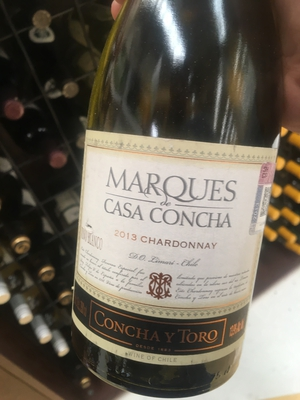marques de casa concha chardonnay: (61, 10, 282, 400)
